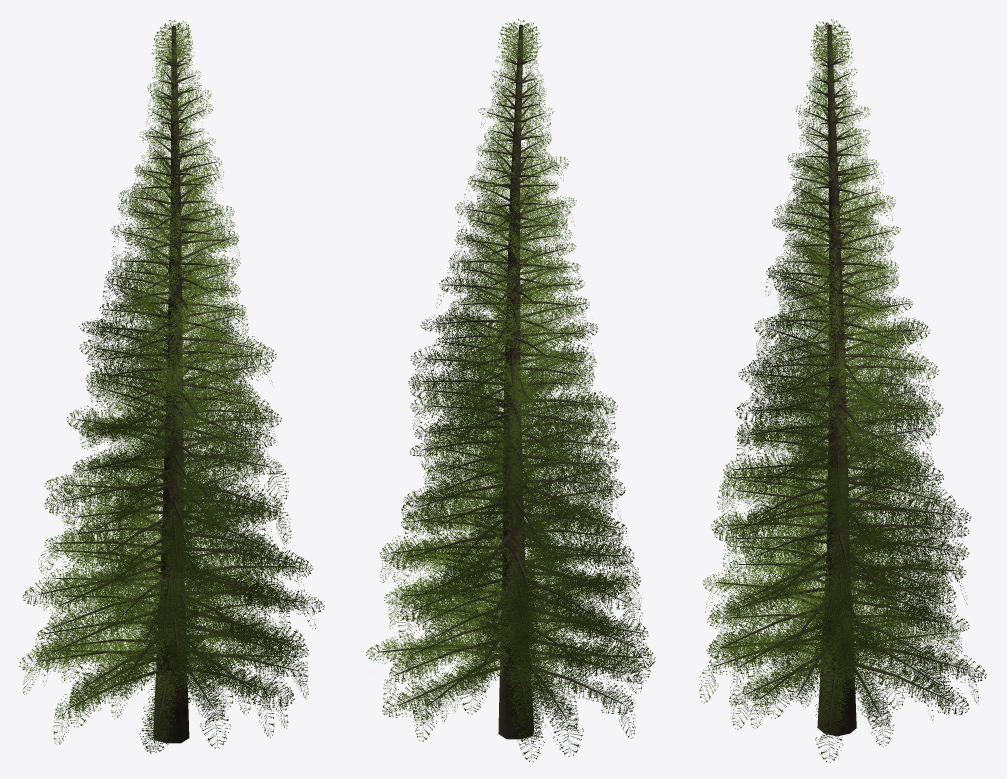
Rendered from larch_sparse_v03_LOD1.fbx.
The picture shows the model from 3 angles, left to right: view 1: azimuth 30°, elevation 25°; view 2: azimuth 150°, elevation 25°; view 3: azimuth 270°, elevation 25°; orthographic projection.
Visible parts, largest first — view 1: larch_sparse_v03_LOD1; view 2: larch_sparse_v03_LOD1; view 3: larch_sparse_v03_LOD1.
Boxes of the visible parts, left/top/right/bottom form: larch_sparse_v03_LOD1: left=19, top=20, right=324, bottom=754; larch_sparse_v03_LOD1: left=366, top=19, right=655, bottom=762; larch_sparse_v03_LOD1: left=699, top=19, right=986, bottom=762.
Size of the model in its own units: 809 by 775 by 2021.
2 materials, 2 textured.
